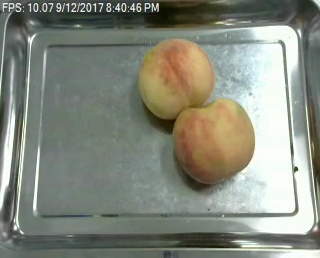Peach: (172, 98, 255, 184), (138, 37, 215, 117)
